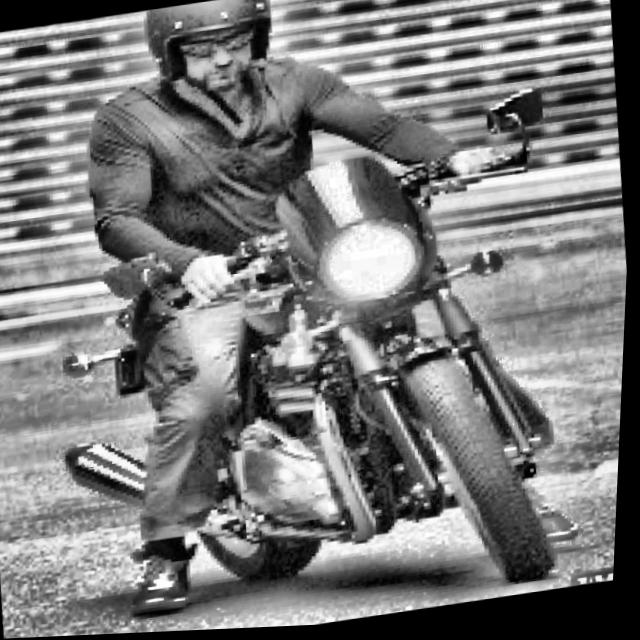motorcycle: (30, 79, 621, 638)
